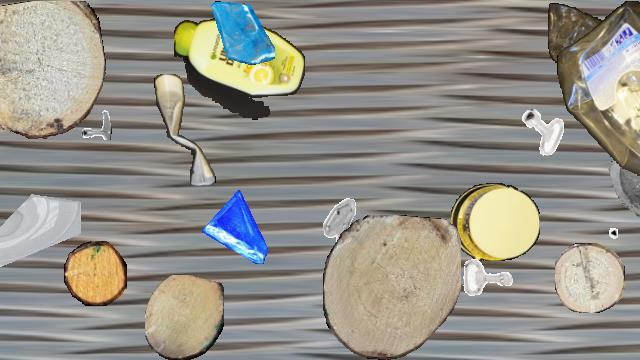glass: (0, 174, 80, 266), (202, 190, 276, 264), (593, 132, 640, 222), (211, 1, 275, 65)
metal: (457, 247, 519, 309), (309, 196, 369, 256), (568, 199, 618, 249), (519, 107, 567, 155), (70, 98, 112, 140)
plastic: (557, 1, 640, 213), (174, 18, 304, 120), (154, 74, 216, 186), (451, 183, 539, 261), (548, 1, 622, 71)
wood: (323, 215, 461, 359), (0, 1, 105, 139), (145, 275, 223, 359), (555, 243, 625, 313), (64, 241, 126, 305)
